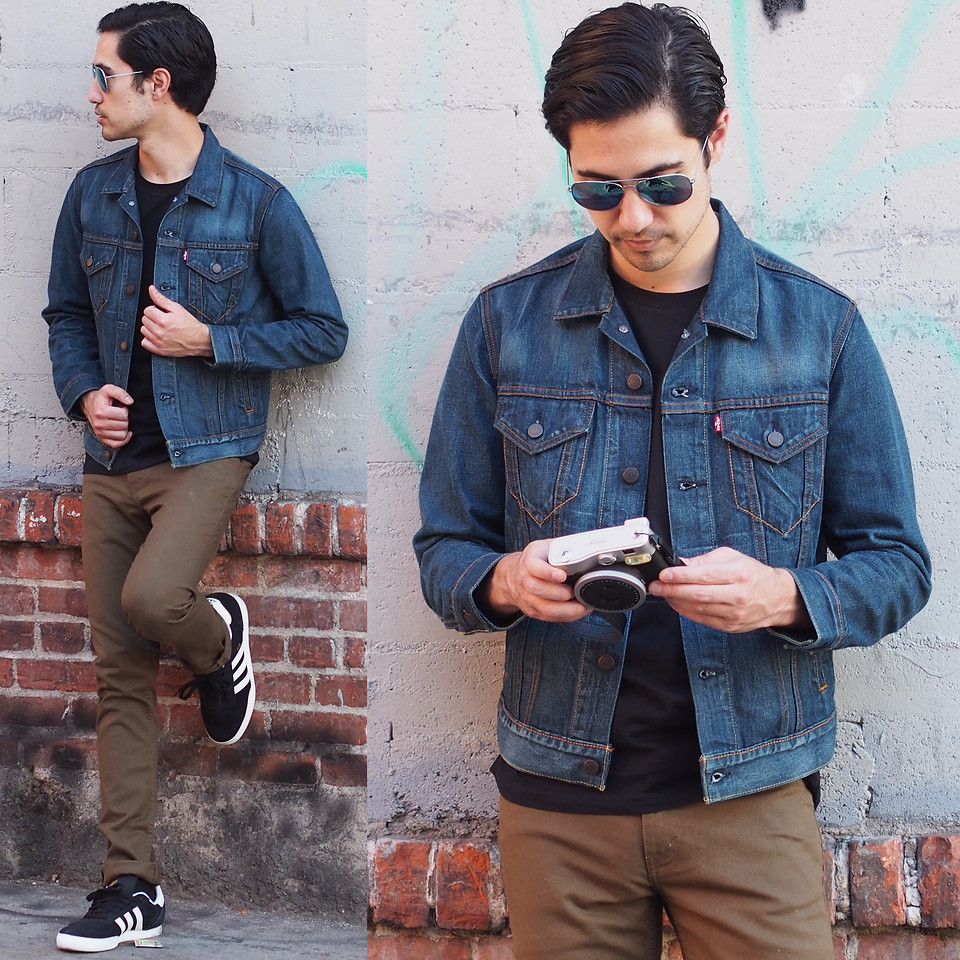sunglasses: (567, 168, 693, 208), (91, 67, 158, 96)
